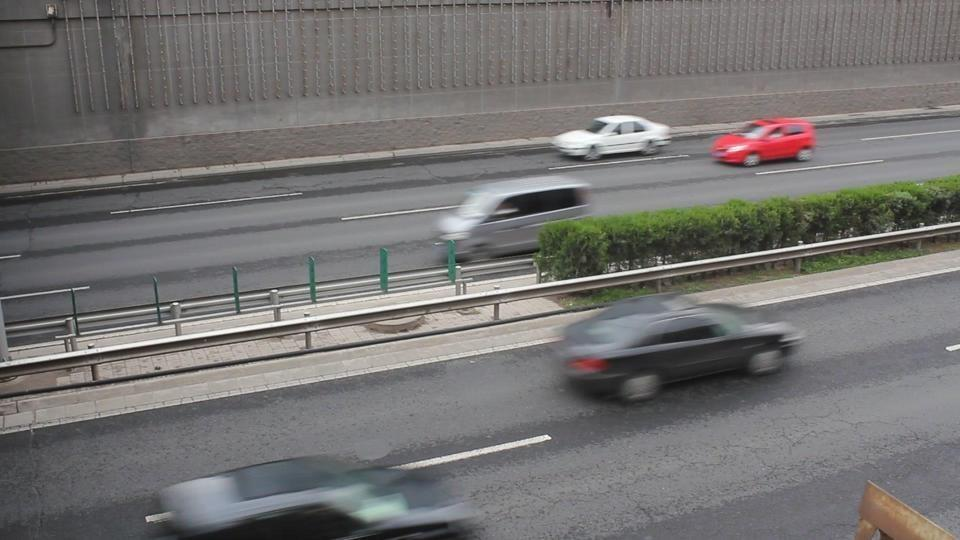car: (146, 453, 491, 538), (553, 293, 806, 404), (430, 176, 593, 256), (551, 115, 672, 161), (707, 118, 816, 167)
